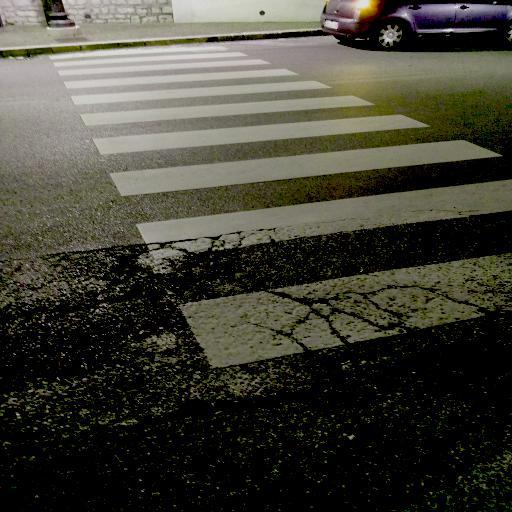crosswalk: (86, 110, 506, 206), (53, 52, 307, 92)
